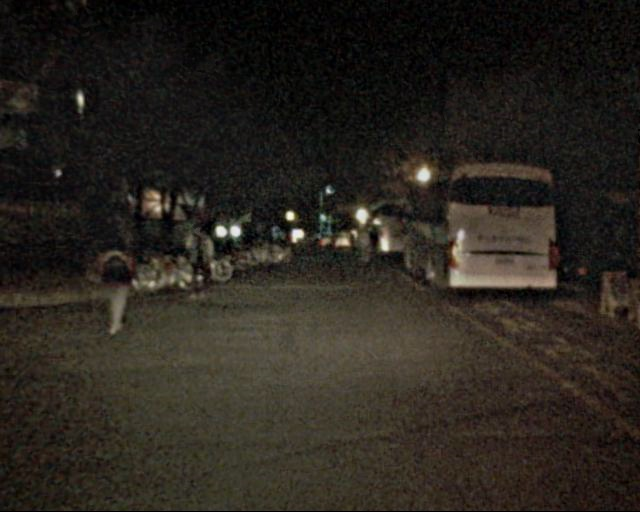person: (94, 226, 142, 339), (183, 225, 216, 305), (356, 229, 379, 265)
